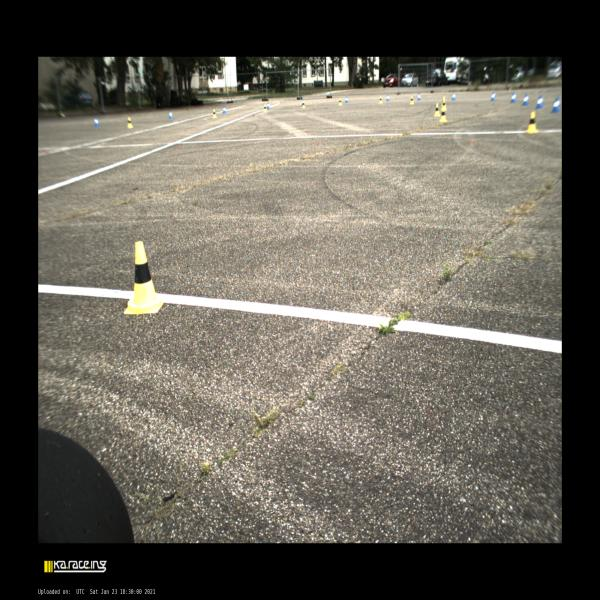blue_cone: (551, 97, 560, 112), (536, 96, 543, 108), (523, 94, 528, 105), (510, 93, 516, 102), (95, 117, 99, 127), (169, 110, 173, 119), (452, 92, 456, 101), (491, 92, 495, 101), (222, 106, 226, 113), (417, 93, 421, 100), (345, 96, 348, 103), (386, 94, 389, 101), (301, 99, 304, 106), (267, 102, 270, 108)
yellow_cone: (124, 241, 165, 314), (525, 112, 538, 134), (440, 107, 447, 122), (434, 103, 441, 117), (441, 98, 447, 110), (127, 117, 133, 128), (441, 96, 446, 107), (213, 109, 217, 118), (264, 103, 268, 112), (410, 95, 414, 104), (338, 98, 342, 106), (378, 96, 382, 103), (302, 101, 306, 108)
